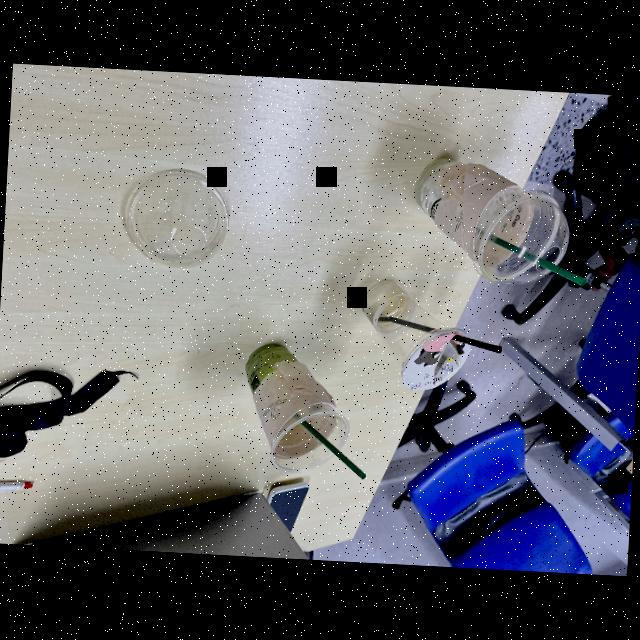plastic_cup: (406, 154, 546, 296), (235, 334, 360, 478), (354, 277, 470, 391)
plastic_cup_lid: (122, 161, 236, 266), (473, 193, 568, 290)
straw: (484, 231, 598, 298), (379, 310, 506, 360), (294, 421, 374, 492)
